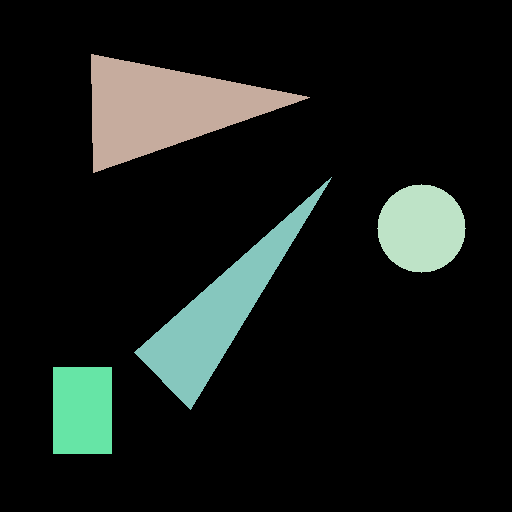circle: (377, 184, 465, 272)
rectangle: (53, 367, 111, 453)
triangle: (134, 177, 331, 409), (91, 54, 309, 172)
